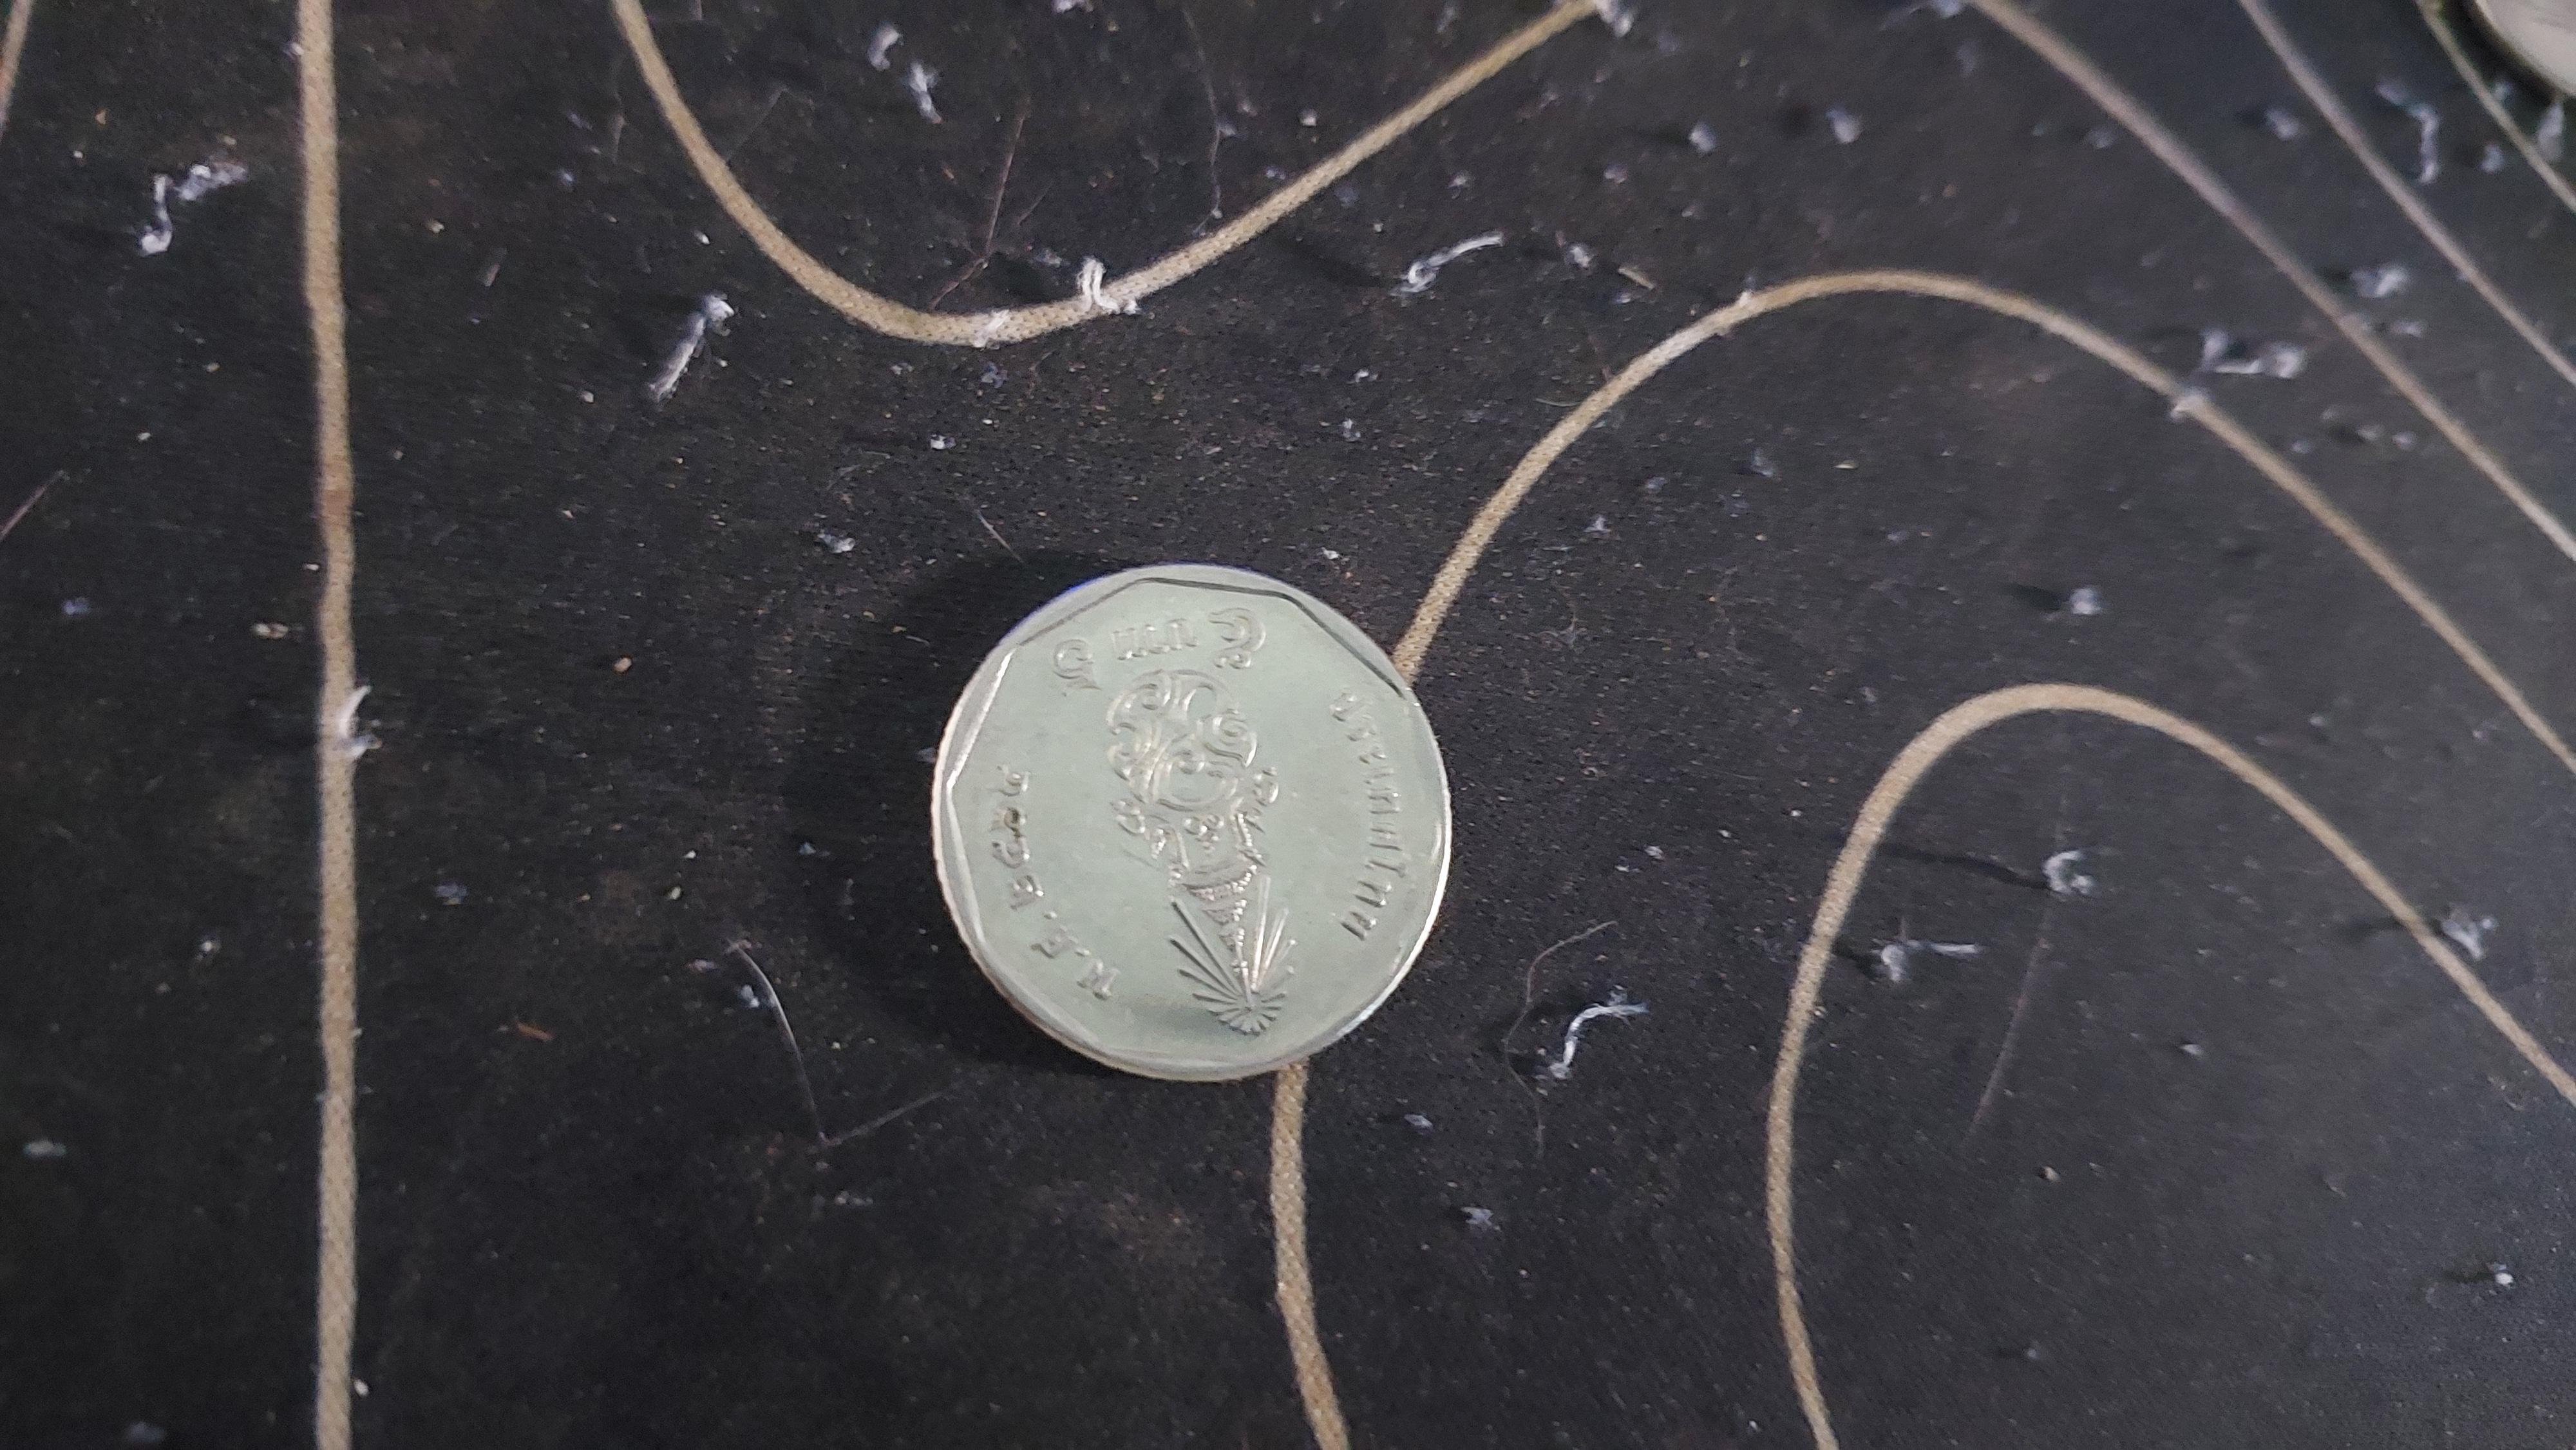5baht: (893, 532, 1491, 1114)
